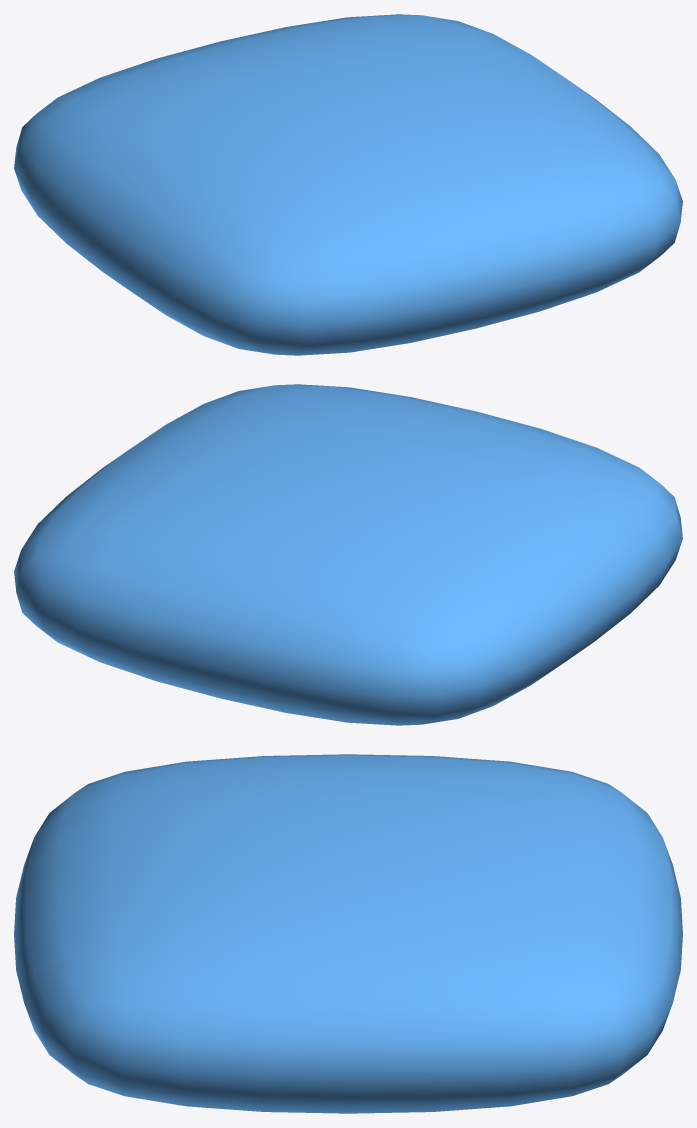
Rendered from SM_pillow_blue.glb.
3 views of the same model, one above another, from view 1: azimuth 30°, elevation 25°; view 2: azimuth 150°, elevation 25°; view 3: azimuth 270°, elevation 25° (orthographic). The views are drawn at different scales.
Parts seen in each view (by area): view 1: SM_pillow_blue; view 2: SM_pillow_blue; view 3: SM_pillow_blue.
Part boxes in pixels (left/top/right/bottom): SM_pillow_blue: left=14, top=14, right=682, bottom=355; SM_pillow_blue: left=14, top=384, right=682, bottom=725; SM_pillow_blue: left=14, top=754, right=682, bottom=1113.
Size of the model in its own units: 0.5046 by 0.1711 by 0.5046.
1 material, 1 textured.
